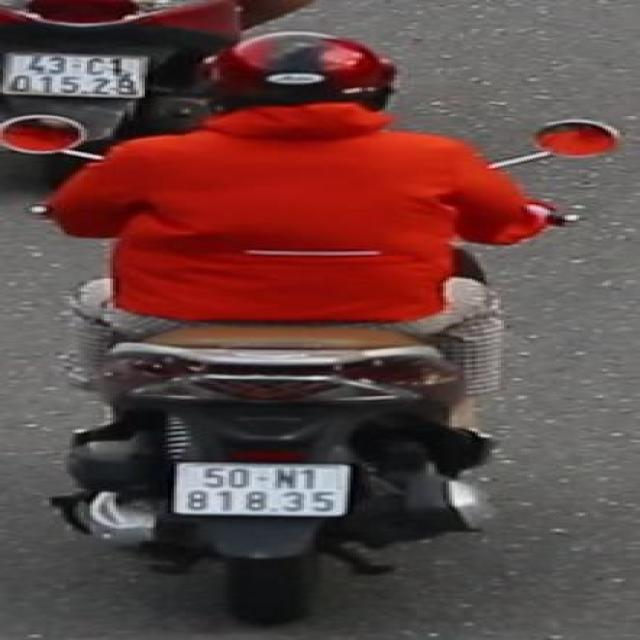LP: (160, 455, 360, 533)
helmet: (193, 30, 395, 122)
